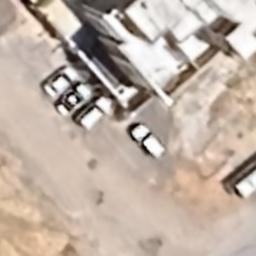SUV: (129, 124, 165, 158), (76, 98, 112, 131)
sedan: (55, 82, 91, 116), (42, 64, 77, 98)
